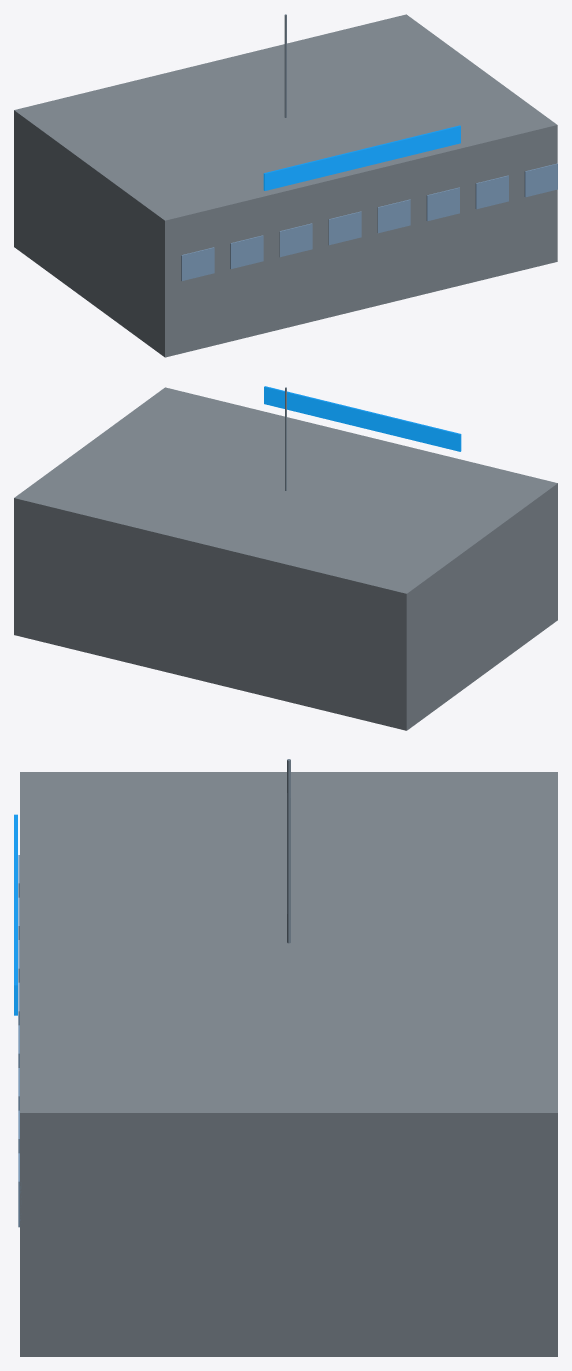
The model's file is facility-mc.glb.
3 renders of one model, top to bottom at view 1: azimuth 30°, elevation 25°; view 2: azimuth 150°, elevation 25°; view 3: azimuth 270°, elevation 25°, orthographic. The views are drawn at different scales.
Visible parts, largest first — view 1: mc-base, mc-sign, mc-window-0, mc-window-2, mc-window-4, mc-window-5, mc-window-1, mc-window-6, mc-window-7, mc-window-3; view 2: mc-base, mc-sign; view 3: mc-base, mc-sign, mc-antenna.
Part boxes in pixels (x1,y1,x2,y2): mc-base: (14,14,557,357); mc-sign: (263,125,460,190); mc-window-0: (181,247,214,280); mc-window-2: (279,223,312,257); mc-window-4: (377,199,410,233); mc-window-5: (426,187,459,221); mc-window-1: (230,235,263,268); mc-window-6: (475,175,508,209); mc-window-7: (524,163,557,197); mc-window-3: (328,211,361,245); mc-base: (14,387,557,730); mc-sign: (264,386,461,451); mc-base: (20,772,557,1356); mc-sign: (14,814,17,1015); mc-antenna: (287,759,290,943).
Size of the model in its own units: 24 by 14 by 16.18.
